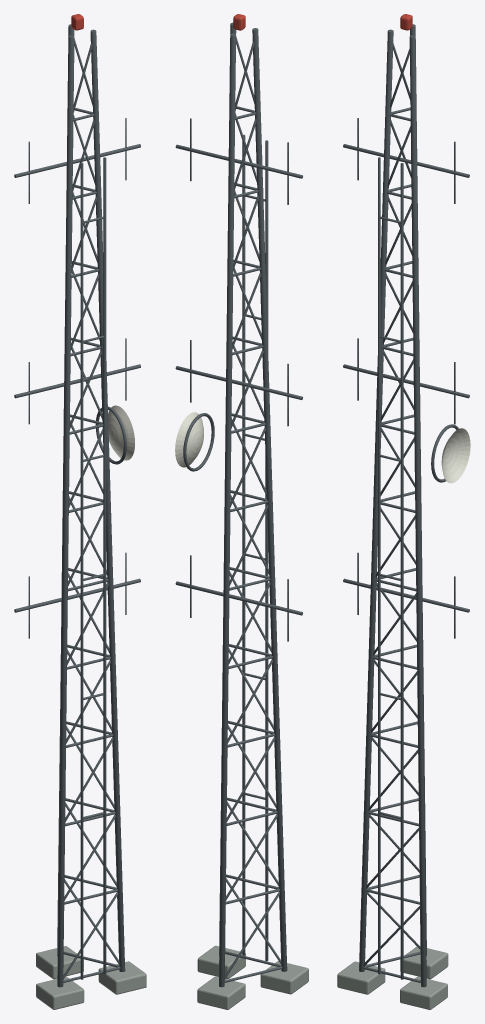
Rendered from RadioMast.fbx.
3 views of the same model, side by side, from view 1: azimuth 30°, elevation 25°; view 2: azimuth 150°, elevation 25°; view 3: azimuth 330°, elevation 25° (orthographic).
Parts seen in each view (by area): view 1: CinemaSteel_Surface.002__UnityExport, CinemaStone_Surface__UnityExport, CinemaCream_Surface.002__UnityExport; view 2: CinemaSteel_Surface.002__UnityExport, CinemaStone_Surface__UnityExport, CinemaCream_Surface.002__UnityExport; view 3: CinemaSteel_Surface.002__UnityExport, CinemaStone_Surface__UnityExport, CinemaCream_Surface.002__UnityExport.
Boxes of the visible parts, x1,y1,x2,y2 form: CinemaSteel_Surface.002__UnityExport: (14, 24, 140, 987); CinemaStone_Surface__UnityExport: (36, 946, 146, 1009); CinemaCream_Surface.002__UnityExport: (108, 405, 134, 460); CinemaSteel_Surface.002__UnityExport: (175, 22, 302, 987); CinemaStone_Surface__UnityExport: (197, 945, 308, 1009); CinemaCream_Surface.002__UnityExport: (175, 412, 203, 467); CinemaSteel_Surface.002__UnityExport: (343, 24, 469, 987); CinemaStone_Surface__UnityExport: (337, 946, 448, 1009); CinemaCream_Surface.002__UnityExport: (441, 428, 470, 483).
Size of the model in its own units: 2.2 by 16.24 by 1.51.
